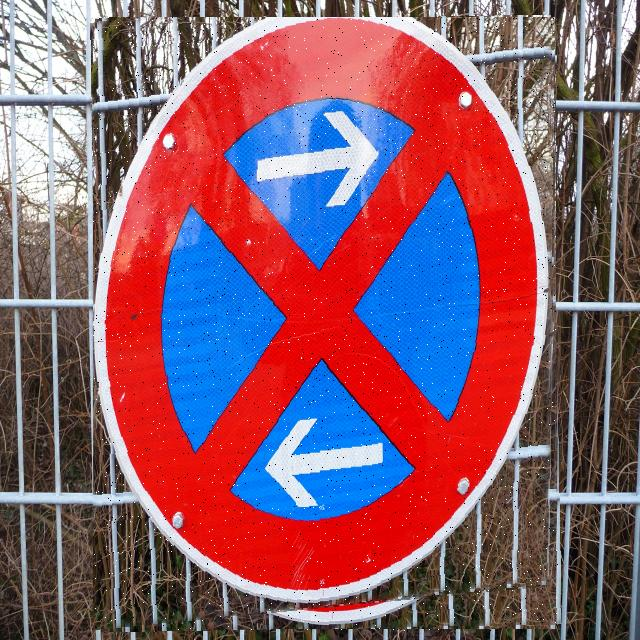no stopping: (93, 17, 558, 631)
